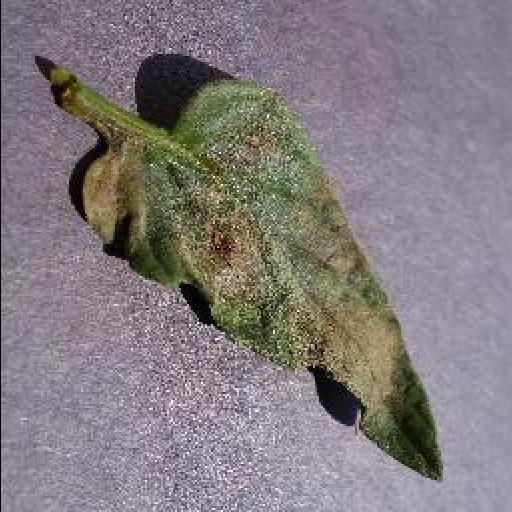disease_tomato: (82, 80, 448, 482)
